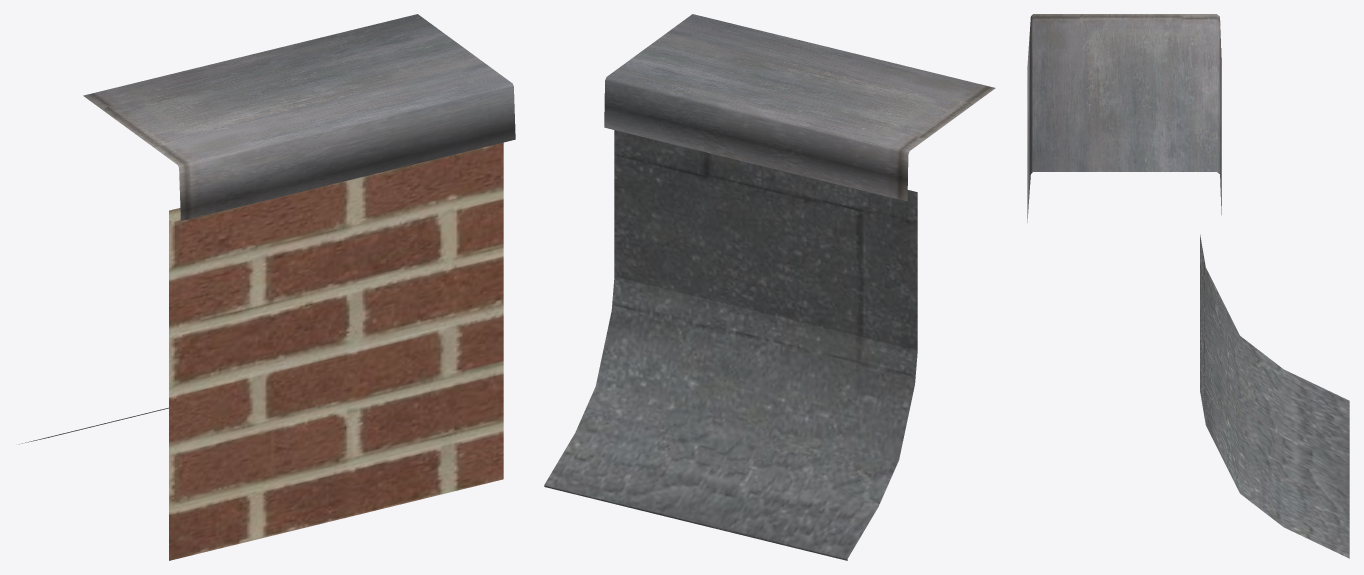
The model's file is SM_Roof_Edge_Flashing_32th_01.glb.
The picture shows the model from 3 angles, left to right: view 1: azimuth 30°, elevation 25°; view 2: azimuth 150°, elevation 25°; view 3: azimuth 270°, elevation 25°; orthographic projection. The views are drawn at different scales.
Parts seen in each view (by area): view 1: SM_Roof_Edge_Flashing_32th_01; view 2: SM_Roof_Edge_Flashing_32th_01; view 3: SM_Roof_Edge_Flashing_32th_01.
Boxes of the visible parts, x1=… form: SM_Roof_Edge_Flashing_32th_01: x1=19, y1=14, x2=515, y2=560; SM_Roof_Edge_Flashing_32th_01: x1=544, y1=14, x2=995, y2=560; SM_Roof_Edge_Flashing_32th_01: x1=1027, y1=14, x2=1349, y2=558.
Bounding box in the file's own units: 0.5 × 0.5741 × 0.4308.
3 materials, 3 textured.
